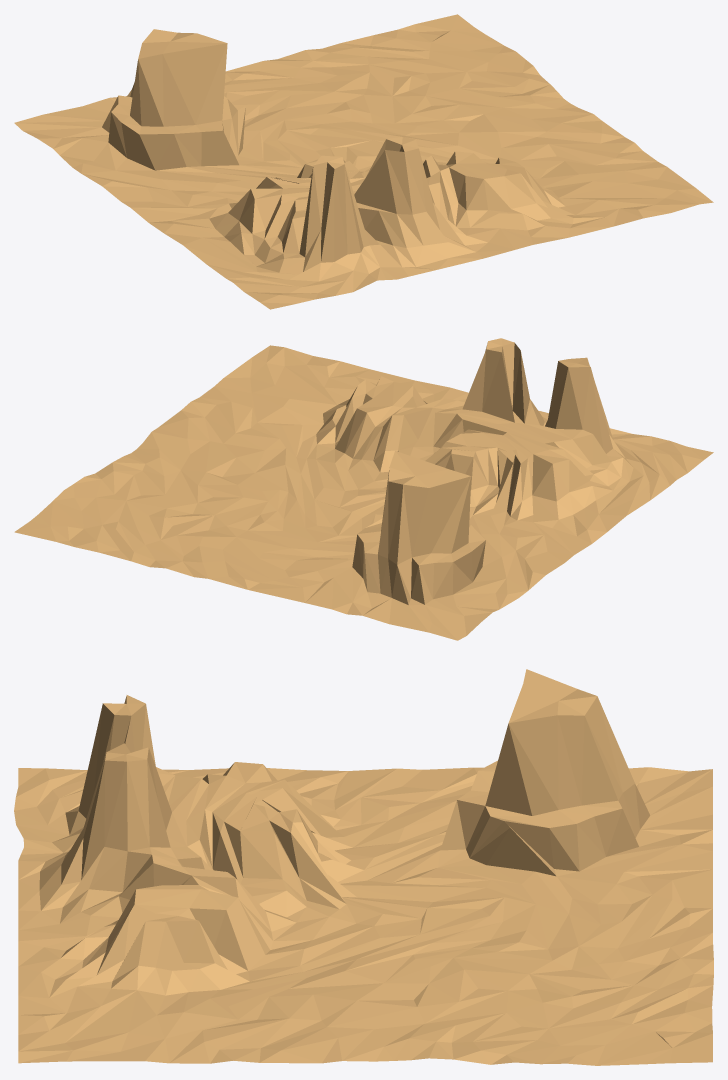
The model's file is landscape.07.fbx.
The picture shows the model from 3 angles, top to bottom: view 1: azimuth 30°, elevation 25°; view 2: azimuth 150°, elevation 25°; view 3: azimuth 270°, elevation 25°; orthographic projection. The views are drawn at different scales.
Parts seen in each view (by area): view 1: landscape.07; view 2: landscape.07; view 3: landscape.07.
Part boxes in pixels (x1,y1,x2,y2): landscape.07: (14, 14, 713, 309); landscape.07: (14, 338, 713, 640); landscape.07: (14, 669, 713, 1065).
Size of the model in its own units: 3407 by 775 by 3385.
